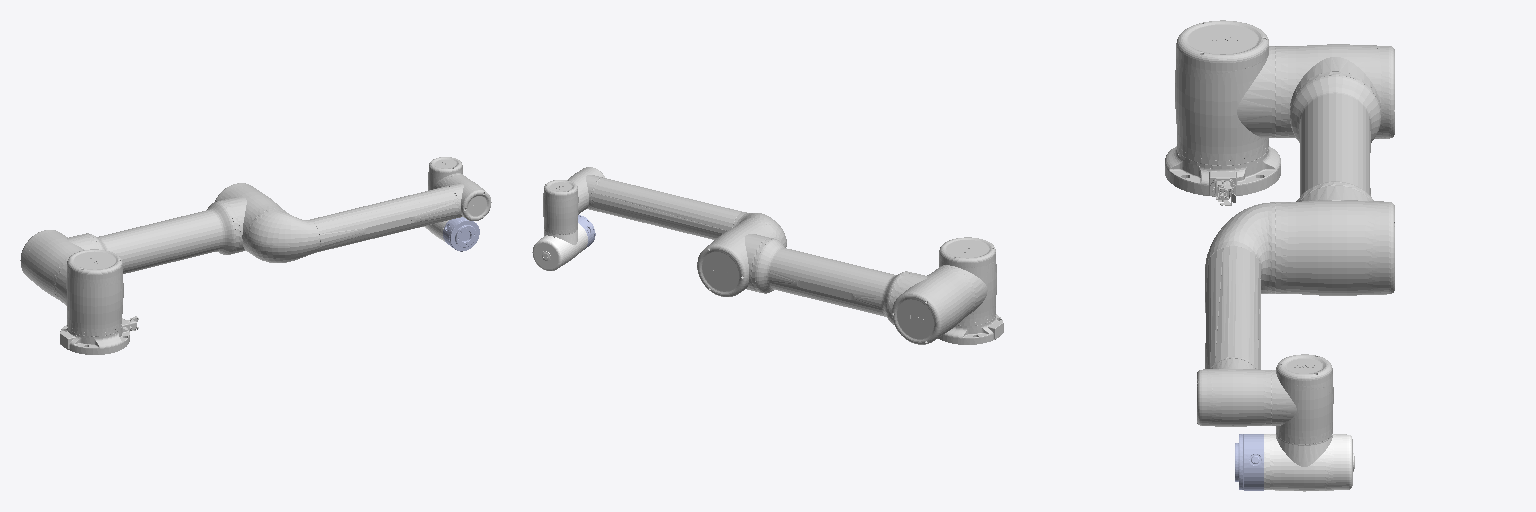
The robot description file, URDF, robot "jaka_s12":
<?xml version="1.0" encoding="utf-8"?>
<!-- This URDF was automatically created by SolidWorks to URDF Exporter! Originally created by [author] ([email redacted]) 
     Commit Version: 1.6.0-4-g7f85cfe  Build Version: 1.6.7995.38578
     For more information, please see http://wiki.ros.org/sw_urdf_exporter -->
<robot
  name="jaka_s12">

    <!-- LINK -->
  <link name="world" />

  <link
    name="base_link">
    <inertial>
      <origin
        xyz="0.0016815 -0.00016524 0.020196"
        rpy="0 0 0" />
      <mass
        value="0.82831" />
      <!-- <inertia
        ixx="0.0016621"
        ixy="6.7056E-07"
        ixz="6.8687E-06"
        iyy="0.0020138"
        iyz="4.9893E-07"
        izz="0.0034826" /> -->
      <inertia
        ixx="0"
        ixy="0"
        ixz="0"
        iyy="0"
        iyz="0"
        izz="0" />
    </inertial>
    <visual>
      <origin
        xyz="0 0 0"
        rpy="0 0 0" />
      <geometry>
        <mesh
          filename="package://jaka_description/meshes/jaka_s12_meshes/base_link.STL" />
      </geometry>
      <material
        name="">
        <color
          rgba="0.84706 0.84706 0.84706 1" />
      </material>
    </visual>
    <collision>
      <origin
        xyz="0 0 0"
        rpy="0 0 0" />
      <geometry>
        <mesh
          filename="package://jaka_description/meshes/jaka_s12_meshes/base_link.STL" />
      </geometry>
    </collision>
  </link>

  <link
    name="Link_01">
    <inertial>
      <origin
        xyz="-1.348E-07 0.0039698 -0.0033275"
        rpy="0 0 0" />
      <mass
        value="29.677" />
      <!-- <inertia
        ixx="0.13784"
        ixy="1.785E-07"
        ixz="-5.8341E-07"
        iyy="0.1346"
        iyz="-0.00028533"
        izz="0.092584" /> -->
      <inertia
        ixx="0"
        ixy="0"
        ixz="0"
        iyy="0"
        iyz="0"
        izz="0" />
    </inertial>
    <visual>
      <origin
        xyz="0 0 0"
        rpy="0 0 0" />
      <geometry>
        <mesh
          filename="package://jaka_description/meshes/jaka_s12_meshes/Link_01.STL" />
      </geometry>
      <material
        name="">
        <color
          rgba="0.84706 0.84706 0.84706 1" />
      </material>
    </visual>
    <collision>
      <origin
        xyz="0 0 0"
        rpy="0 0 0" />
      <geometry>
        <mesh
          filename="package://jaka_description/meshes/jaka_s12_meshes/Link_01.STL" />
      </geometry>
    </collision>
  </link>

  <link
    name="Link_02">
    <inertial>
      <origin
        xyz="0.2975 3.0646E-09 -0.17962"
        rpy="0 0 0" />
      <mass
        value="97.715" />
      <!-- <inertia
        ixx="0.34047"
        ixy="-1.8174E-06"
        ixz="-6.2096E-07"
        iyy="6.1206"
        iyz="1.091E-07"
        izz="6.0299" /> -->
      <inertia
        ixx="0"
        ixy="0"
        ixz="0"
        iyy="0"
        iyz="0"
        izz="0" />
    </inertial>
    <visual>
      <origin
        xyz="0 0 0"
        rpy="0 0 0" />
      <geometry>
        <mesh
          filename="package://jaka_description/meshes/jaka_s12_meshes/Link_02.STL" />
      </geometry>
      <material
        name="">
        <color
          rgba="0.84706 0.84706 0.84706 1" />
      </material>
    </visual>
    <collision>
      <origin
        xyz="0 0 0"
        rpy="0 0 0" />
      <geometry>
        <mesh
          filename="package://jaka_description/meshes/jaka_s12_meshes/Link_02.STL" />
      </geometry>
    </collision>
  </link>

  <link
    name="Link_03">
    <inertial>
      <origin
        xyz="0.27266 7.7106E-07 -0.022619"
        rpy="0 0 0" />
      <mass
        value="39.76" />
      <!-- <inertia
        ixx="0.056602"
        ixy="1.05E-05"
        ixz="-0.053004"
        iyy="1.7308"
        iyz="1.1887E-06"
        izz="1.7278" /> -->
      <inertia
        ixx="0"
        ixy="0"
        ixz="0"
        iyy="0"
        iyz="0"
        izz="0" />
    </inertial>
    <visual>
      <origin
        xyz="0 0 0"
        rpy="0 0 0" />
      <geometry>
        <mesh
          filename="package://jaka_description/meshes/jaka_s12_meshes/Link_03.STL" />
      </geometry>
      <material
        name="">
        <color
          rgba="0.84706 0.84706 0.84706 1" />
      </material>
    </visual>
    <collision>
      <origin
        xyz="0 0 0"
        rpy="0 0 0" />
      <geometry>
        <mesh
          filename="package://jaka_description/meshes/jaka_s12_meshes/Link_03.STL" />
      </geometry>
    </collision>
  </link>

  <link
    name="Link_04">
    <inertial>
      <origin
        xyz="4.6823E-07 -0.003388 0.0032625"
        rpy="0 0 0" />
      <mass
        value="6.9374" />
      <!-- <inertia
        ixx="0.012275"
        ixy="7.981E-09"
        ixz="-1.3755E-08"
        iyy="0.0082652"
        iyz="-7.0839E-05"
        izz="0.011814" /> -->
      <inertia
        ixx="0"
        ixy="0"
        ixz="0"
        iyy="0"
        iyz="0"
        izz="0" />
    </inertial>
    <visual>
      <origin
        xyz="0 0 0"
        rpy="0 0 0" />
      <geometry>
        <mesh
          filename="package://jaka_description/meshes/jaka_s12_meshes/Link_04.STL" />
      </geometry>
      <material
        name="">
        <color
          rgba="0.84706 0.84706 0.84706 1" />
      </material>
    </visual>
    <collision>
      <origin
        xyz="0 0 0"
        rpy="0 0 0" />
      <geometry>
        <mesh
          filename="package://jaka_description/meshes/jaka_s12_meshes/Link_04.STL" />
      </geometry>
    </collision>
  </link>

  <link
    name="Link_05">
    <inertial>
      <origin
        xyz="2.2353E-07 -0.0055286 -0.0028281"
        rpy="0 0 0" />
      <mass
        value="1.0195" />
      <!-- <inertia
        ixx="0.0022229"
        ixy="-1.0568E-08"
        ixz="6.2513E-09"
        iyy="0.0011893"
        iyz="1.6683E-05"
        izz="0.0021628" /> -->
      <inertia
        ixx="0"
        ixy="0"
        ixz="0"
        iyy="0"
        iyz="0"
        izz="0" />
    </inertial>
    <visual>
      <origin
        xyz="0 0 0"
        rpy="0 0 0" />
      <geometry>
        <mesh
          filename="package://jaka_description/meshes/jaka_s12_meshes/Link_05.STL" />
      </geometry>
      <material
        name="">
        <color
          rgba="1 1 1 1" />
      </material>
    </visual>
    <collision>
      <origin
        xyz="0 0 0"
        rpy="0 0 0" />
      <geometry>
        <mesh
          filename="package://jaka_description/meshes/jaka_s12_meshes/Link_05.STL" />
      </geometry>
    </collision>
  </link>

  <link
    name="Link_06">
    <inertial>
      <origin
        xyz="-0.00024006 0.00031853 -0.025738"
        rpy="0 0 0" />
      <mass
        value="0.27747" />
      <!-- <inertia
        ixx="0.00018377"
        ixy="-8.9318E-08"
        ixz="-1.0355E-07"
        iyy="0.00018456"
        iyz="3.7174E-07"
        izz="0.00027901" /> -->
      <inertia
        ixx="0"
        ixy="0"
        ixz="0"
        iyy="0"
        iyz="0"
        izz="0" />
    </inertial>
    <visual>
      <origin
        xyz="0 0 0"
        rpy="0 0 0" />
      <geometry>
        <mesh
          filename="package://jaka_description/meshes/jaka_s12_meshes/Link_06.STL" />
      </geometry>
      <material
        name="">
        <color
          rgba="0.79216 0.81961 0.93333 1" />
      </material>
    </visual>
    <collision>
      <origin
        xyz="0 0 0"
        rpy="0 0 0" />
      <geometry>
        <mesh
          filename="package://jaka_description/meshes/jaka_s12_meshes/Link_06.STL" />
      </geometry>
    </collision>
  </link>

  <!-- JOINT -->
  <joint name="fixed" type="fixed">
    <origin xyz="-0.00026 0.0001872 0.000259" rpy="0 0 0" />
     <parent link="world"/>
     <child link="base_link"/>
  </joint>

    <joint
    name="joint_1"
    type="revolute">
    <origin
      xyz="0 -0.00018758 0.14265"
      rpy="0 0 0" />
    <parent
      link="base_link" />
    <child
      link="Link_01" />
    <axis
      xyz="0 0 1" />
    <limit
      lower="-6.28"
      upper="6.28"
      effort="2000"
      velocity="2.09" />
  </joint>

  <joint
    name="joint_2"
    type="revolute">
    <origin
      xyz="0 0 0"
      rpy="1.5708 0 0" />
    <parent
      link="Link_01" />
    <child
      link="Link_02" />
    <axis
      xyz="0 0 1" />
    <limit
      lower="-1.48"
      upper="4.62"
      effort="5000"
      velocity="2.09" />
  </joint>

  <joint
    name="joint_3"
    type="revolute">
    <origin
      xyz="0.595 0 0"
      rpy="0 0 0" />
    <parent
      link="Link_02" />
    <child
      link="Link_03" />
    <axis
      xyz="0 0 1" />
    <limit
      lower="-3.05"
      upper="3.05"
      effort="5000"
      velocity="2.09" />
  </joint>

  <joint
    name="joint_4"
    type="revolute">
    <origin
      xyz="0.5715 0 -0.1315"
      rpy="0 0 0" />
    <parent
      link="Link_03" />
    <child
      link="Link_04" />
    <axis
      xyz="0 0 1" />
    <limit
      lower="-1.48"
      upper="4.62"
      effort="2000"
      velocity="3.14"  />
  </joint>

  <joint
    name="joint_5"
    type="revolute">
    <origin
      xyz="0 -0.115 0"
      rpy="1.5708 0 0" />
    <parent
      link="Link_04" />
    <child
      link="Link_05" />
    <axis
      xyz="0 0 1" />
    <limit
      lower="-6.28"
      upper="6.28"
      effort="3000"
      velocity="3.14" />
  </joint>

  <joint
    name="joint_6"
    type="revolute">
    <origin
      xyz="0.00025822 0.112 0.00025865"
      rpy="-1.5708 0 0" />
    <parent
      link="Link_05" />
    <child
      link="Link_06" />
    <axis
      xyz="0 0 1" />
    <limit
      lower="-6.28"
      upper="6.28"
      effort="1000"
      velocity="3.14" />
  </joint>

 <transmission name="trans_joint_1">
        <type>transmission_interface/SimpleTransmission</type>
        <joint name="joint_1">
            <hardwareInterface>hardware_interface/PositionJointInterface</hardwareInterface>
        </joint>
        <actuator name="joint_1_motor">
            <hardwareInterface>hardware_interface/PositionJointInterface</hardwareInterface>
            <mechanicalReduction>1</mechanicalReduction>
        </actuator>
    </transmission>
    <transmission name="trans_joint_2">
        <type>transmission_interface/SimpleTransmission</type>
        <joint name="joint_2">
            <hardwareInterface>hardware_interface/PositionJointInterface</hardwareInterface>
        </joint>
        <actuator name="joint_2_motor">
            <hardwareInterface>hardware_interface/PositionJointInterface</hardwareInterface>
            <mechanicalReduction>1</mechanicalReduction>
        </actuator>
    </transmission>
    <transmission name="trans_joint_3">
        <type>transmission_interface/SimpleTransmission</type>
        <joint name="joint_3">      lower="-6.28"
      upper="6.28"
      effort="1000"
            <hardwareInterface>hardware_interface/PositionJointInterface</hardwareInterface>
        </joint>
        <actuator name="joint_3_motor">
            <hardwareInterface>hardware_interface/PositionJointInterface</hardwareInterface>
            <mechanicalReduction>1</mechanicalReduction>
        </actuator>
    </transmission>
    <transmission name="trans_joint_4">
        <type>transmission_interface/SimpleTransmission</type>
        <joint name="joint_4">
            <hardwareInterface>hardware_interface/PositionJointInterface</hardwareInterface>
        </joint>
        <actuator name="joint_4_motor">
            <hardwareInterface>hardware_interface/PositionJointInterface</hardwareInterface>
            <mechanicalReduction>1</mechanicalReduction>
        </actuator>
    </transmission>
    <transmission name="trans_joint_5">
        <type>transmission_interface/SimpleTransmission</type>
        <joint name="joint_5">
            <hardwareInterface>hardware_interface/PositionJointInterface</hardwareInterface>
        </joint>
        <actuator name="joint_5_motor">
            <hardwareInterface>hardware_interface/PositionJointInterface</hardwareInterface>
            <mechanicalReduction>1</mechanicalReduction>
        </actuator>
    </transmission>
    <transmission name="trans_joint_6">
        <type>transmission_interface/SimpleTransmission</type>
        <joint name="joint_6">
            <hardwareInterface>hardware_interface/PositionJointInterface</hardwareInterface>
        </joint>
        <actuator name="joint_6_motor">
            <hardwareInterface>hardware_interface/PositionJointInterface</hardwareInterface>
            <mechanicalReduction>1</mechanicalReduction>
        </actuator>
    </transmission>
    <gazebo>
        <plugin name="gazebo_ros_control" filename="libgazebo_ros_control.so">
            <robotNamespace>/</robotNamespace>
        </plugin>
    </gazebo>
</robot>

--- Facts derived from the render (not from the file) ---
3 views of the same robot in one strip: view 1: azimuth 30°, elevation 25°; view 2: azimuth 150°, elevation 25°; view 3: azimuth 270°, elevation 25° (orthographic).
Model jaka_s12 with 8 links and 7 joints (6 revolute, 1 fixed), rooted at world, posed every joint at zero.
Links seen in each view (by area): view 1: Link_02, Link_03, Link_01, base_link, Link_06, Link_04; view 2: Link_02, Link_03, Link_01, Link_04, Link_05, base_link; view 3: Link_02, Link_03, Link_01, Link_04, Link_05, base_link, Link_06.
Boxes of the visible links, box(x1,y1,x2,y2) form: Link_02: box(20, 183, 284, 302); Link_03: box(248, 174, 491, 262); Link_01: box(56, 249, 123, 337); base_link: box(60, 316, 138, 354); Link_06: box(443, 217, 479, 251); Link_04: box(428, 157, 462, 190); Link_02: box(697, 219, 976, 344); Link_03: box(568, 167, 786, 247); Link_01: box(939, 237, 996, 327); Link_04: box(543, 180, 584, 234); Link_05: box(532, 223, 587, 270); base_link: box(938, 314, 1003, 344); Link_02: box(1272, 44, 1394, 295); Link_03: box(1197, 202, 1272, 426); Link_01: box(1175, 20, 1271, 168); Link_04: box(1273, 354, 1333, 445); Link_05: box(1264, 434, 1354, 491); base_link: box(1165, 146, 1280, 205); Link_06: box(1235, 434, 1263, 490).
Bounding box of the posed robot: 1.31 × 0.3722 × 0.2587 m (x, y, z).
Meshes: 7 distinct files referenced, 7 mesh visuals loaded (7 binary STL).
